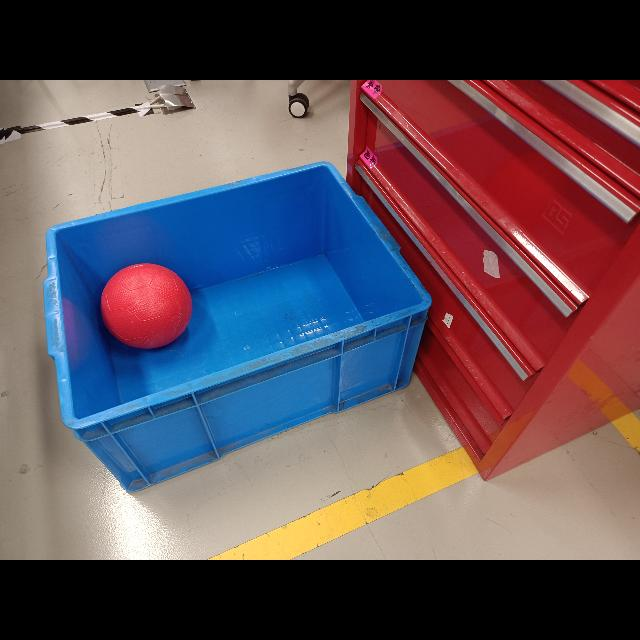R: (101, 262, 191, 350)
